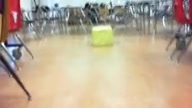cube: (92, 26, 113, 46)
